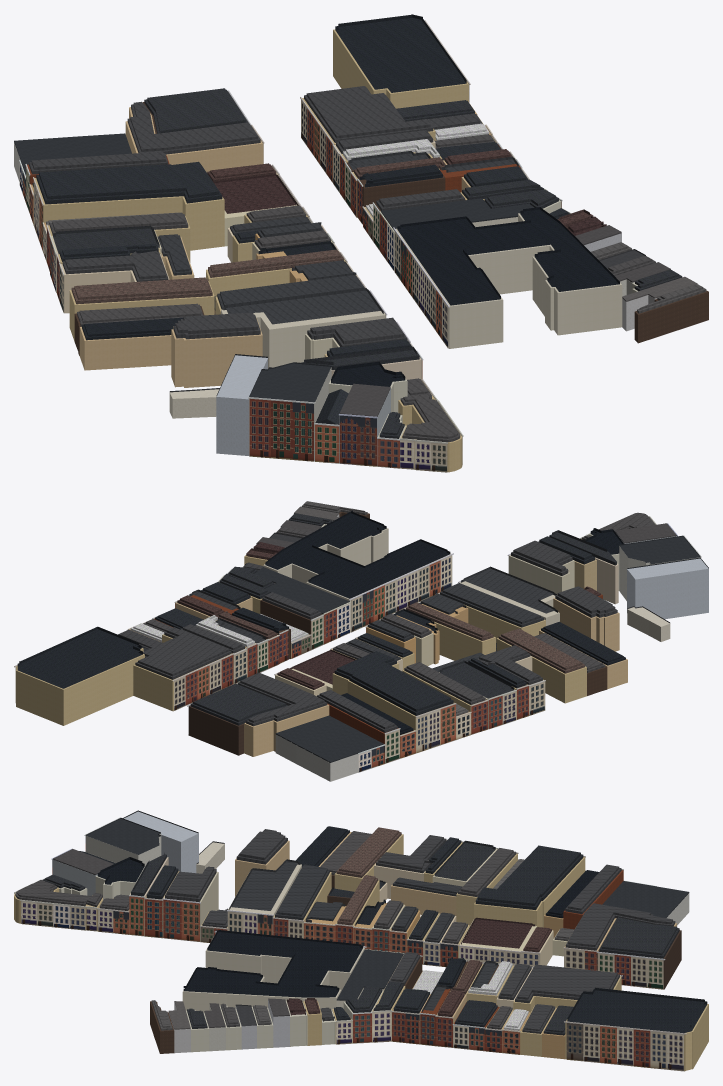
The picture shows the model from 3 angles, top to bottom: view 1: azimuth 30°, elevation 25°; view 2: azimuth 150°, elevation 25°; view 3: azimuth 270°, elevation 25°; orthographic projection. The views are drawn at different scales.
Visible parts, largest first — view 1: bldg_499843246_roof_b, bldg_499843246, bldg_499843259_roof_b, bldg_497728409_roof_b, bldg_497728409, bldg_497728389_facade0, bldg_499843255_roof_b, bldg_863002255, bldg_497728390, bldg_497728377_roof_b, bldg_497728363_roof_b, bldg_497728399 (+50 smaller); view 2: bldg_499843246_roof_b, bldg_499843259, bldg_497728390, bldg_499843259_roof_b, bldg_499843246_facade0, bldg_497728409_roof_b, bldg_497728414_roof, bldg_499843255_roof_b, bldg_499843246, bldg_499843255_facade0, bldg_497728363_roof_b, bldg_497728377_roof_b (+60 smaller); view 3: bldg_499843246_roof_b, bldg_499843259_facade0, bldg_499843259_roof_b, bldg_499843246, bldg_497728409_roof_b, bldg_499843255_roof_b, bldg_497728363_roof_b, bldg_497728390, bldg_497728414_roof, bldg_497728377_roof_b, bldg_497728363_facade0, bldg_499843247_roof (+76 smaller).
Part boxes in pixels (bbox=[...]): bldg_499843246_roof_b: bbox=[400, 207, 617, 301]; bldg_499843246: bbox=[395, 213, 622, 348]; bldg_499843259_roof_b: bbox=[338, 14, 463, 87]; bldg_497728409_roof_b: bbox=[39, 161, 219, 199]; bldg_497728409: bbox=[34, 178, 224, 250]; bldg_497728389_facade0: bbox=[248, 397, 315, 461]; bldg_499843255_roof_b: bbox=[306, 86, 430, 138]; bldg_863002255: bbox=[171, 318, 262, 387]; bldg_497728390: bbox=[216, 355, 267, 455]; bldg_497728377_roof_b: bbox=[226, 288, 380, 324]; bldg_497728363_roof_b: bbox=[147, 88, 245, 133]; bldg_497728399: bbox=[79, 327, 171, 370]; bldg_499843246_roof_b: bbox=[267, 510, 447, 595]; bldg_499843259: bbox=[15, 648, 144, 725]; bldg_497728390: bbox=[627, 558, 708, 619]; bldg_499843259_roof_b: bbox=[19, 626, 140, 684]; bldg_499843246_facade0: bbox=[349, 553, 453, 632]; bldg_497728409_roof_b: bbox=[337, 651, 450, 711]; bldg_497728414_roof: bbox=[275, 715, 383, 762]; bldg_499843255_roof_b: bbox=[138, 627, 228, 676]; bldg_499843246: bbox=[263, 528, 452, 632]; bldg_499843255_facade0: bbox=[172, 653, 234, 711]; bldg_497728363_roof_b: bbox=[193, 683, 286, 722]; bldg_497728377_roof_b: bbox=[463, 566, 555, 613]; bldg_499843246_roof_b: bbox=[183, 930, 360, 994]; bldg_499843259_facade0: bbox=[564, 1021, 686, 1071]; bldg_499843259_roof_b: bbox=[569, 987, 704, 1029]; bldg_499843246: bbox=[182, 933, 364, 1012]; bldg_497728409_roof_b: bbox=[478, 845, 580, 905]; bldg_499843255_roof_b: bbox=[517, 964, 617, 999]; bldg_497728363_roof_b: bbox=[601, 917, 677, 955]; bldg_497728390: bbox=[124, 811, 198, 873]; bldg_497728414_roof: bbox=[602, 881, 689, 917]; bldg_497728377_roof_b: bbox=[231, 859, 297, 910]; bldg_497728363_facade0: bbox=[596, 951, 665, 989]; bldg_499843247_roof: bbox=[336, 949, 403, 1000].
Bounding box in the file's own units: 195 × 19.61 × 260.
Materials: 94 (46 with a texture image).
